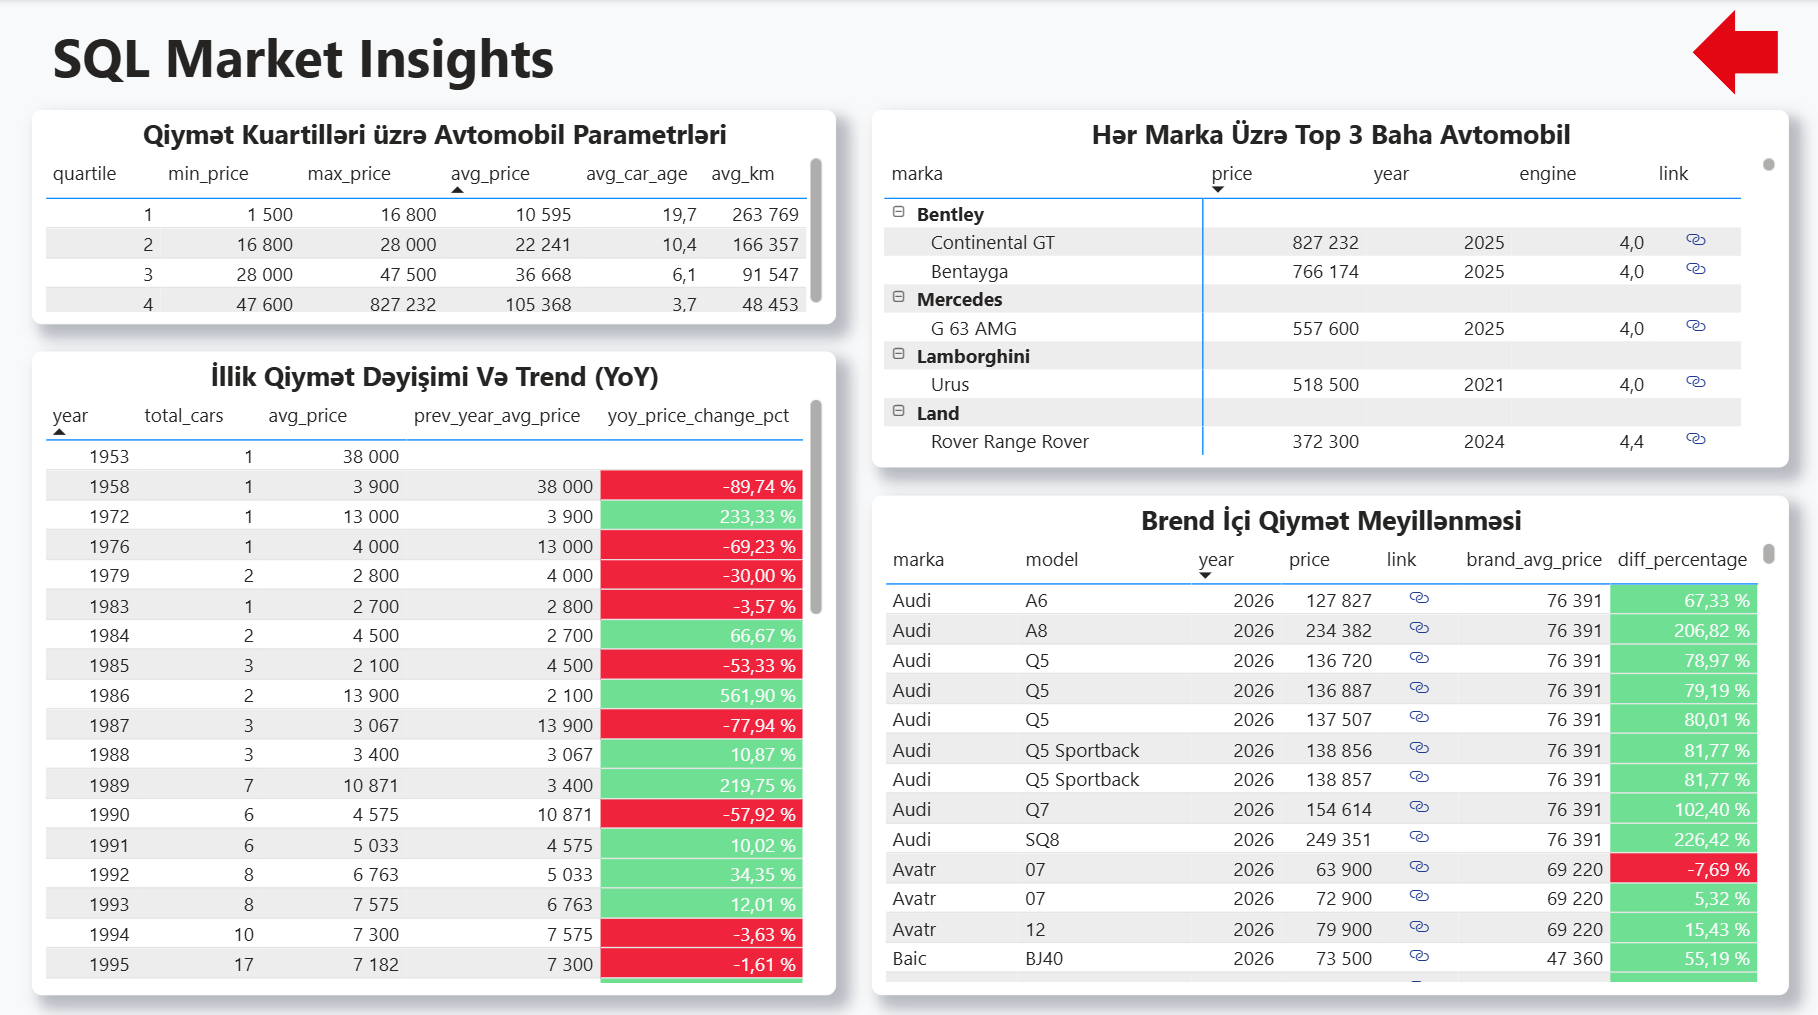

The dashboard page shown, as its layout file describes it:
{"tool":"powerbi","page":{"name":"SQL Market Insights","canvas":[1280,720],"ordinal":1},"visuals":[{"type":"shape","box":[23.2,16.9,565.3,74.9],"z":0},{"type":"shape","box":[23.2,111.8,565.3,150.8],"z":1},{"type":"shape","box":[613.8,359.7,644.4,340.7],"z":2},{"type":"shape","box":[23.2,282.7,565.3,417.7],"z":3},{"type":"shape","box":[613.8,111.8,644.4,228.9],"z":4},{"type":"tableEx","title":"Qiymət Kuartilləri üzrə Avtomobil Parametrləri","fields":{"Values":["price_quartiles_summary.quartile","price_quartiles_summary.min_price","price_quartiles_summary.max_price","price_quartiles_summary.avg_price","price_quartiles_summary.avg_car_age","price_quartiles_summary.avg_mileage_km"]},"box":[23.2,111.8,565.3,150.8],"z":5},{"type":"tableEx","title":"İllik Qiymət Dəyişimi Və Trend (YoY)","fields":{"Values":["yearly_price_trends.year","yearly_price_trends.total_cars","yearly_price_trends.avg_price","yearly_price_trends.prev_year_avg_price","yearly_price_trends.yoy_price_change_pct"]},"box":[23.2,282.7,565.3,417.7],"z":6},{"type":"tableEx","title":"Brend İçi Qiymət Meyillənməsi","fields":{"Values":["brand_price_deviation.marka","brand_price_deviation.model","brand_price_deviation.year","brand_price_deviation.price","brand_price_deviation.url","brand_price_deviation.brand_avg_price","brand_price_deviation.diff_percentage"]},"box":[613.8,359.7,644.4,340.7],"z":7},{"type":"pivotTable","title":"Hər Marka Üzrə Top 3 Baha Avtomobil","fields":{"Values":["Max(top_3_cars_per_brand.price)","Max(top_3_cars_per_brand.year)","Max(top_3_cars_per_brand.engine)","Min(turbo_cars.url)"],"Rows":["top_3_cars_per_brand.marka","top_3_cars_per_brand.model"]},"box":[613.8,111.8,644.4,220.4],"z":8},{"type":"textbox","box":[32.7,9.5,542.1,82.3],"z":9},{"type":"shape","box":[1191,7,60.1,60.1],"z":10}]}

Visuals, with their boxes in screenshot pixels (x1, y1, x2, y2), scaled from the page's 1280x720 canvas onto the 1818x1015 screenshot:
shape: {"left": 33, "top": 24, "right": 836, "bottom": 129}
shape: {"left": 33, "top": 158, "right": 836, "bottom": 370}
shape: {"left": 872, "top": 507, "right": 1787, "bottom": 987}
shape: {"left": 33, "top": 399, "right": 836, "bottom": 987}
shape: {"left": 872, "top": 158, "right": 1787, "bottom": 480}
"Qiymət Kuartilləri üzrə Avtomobil Parametrləri" tableEx: {"left": 33, "top": 158, "right": 836, "bottom": 370}
"İllik Qiymət Dəyişimi Və Trend (YoY)" tableEx: {"left": 33, "top": 399, "right": 836, "bottom": 987}
"Brend İçi Qiymət Meyillənməsi" tableEx: {"left": 872, "top": 507, "right": 1787, "bottom": 987}
"Hər Marka Üzrə Top 3 Baha Avtomobil" pivotTable: {"left": 872, "top": 158, "right": 1787, "bottom": 468}
textbox: {"left": 46, "top": 13, "right": 816, "bottom": 129}
shape: {"left": 1692, "top": 10, "right": 1777, "bottom": 95}
